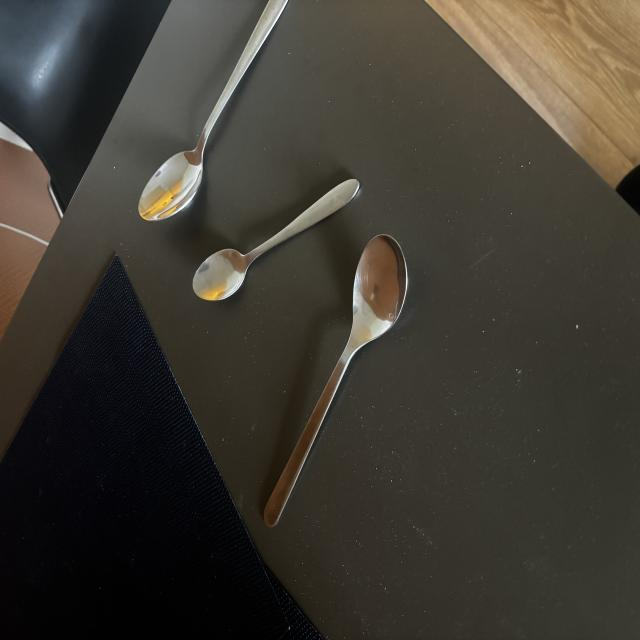spoon: (263, 234, 411, 530), (136, 0, 295, 223), (191, 177, 362, 305)
